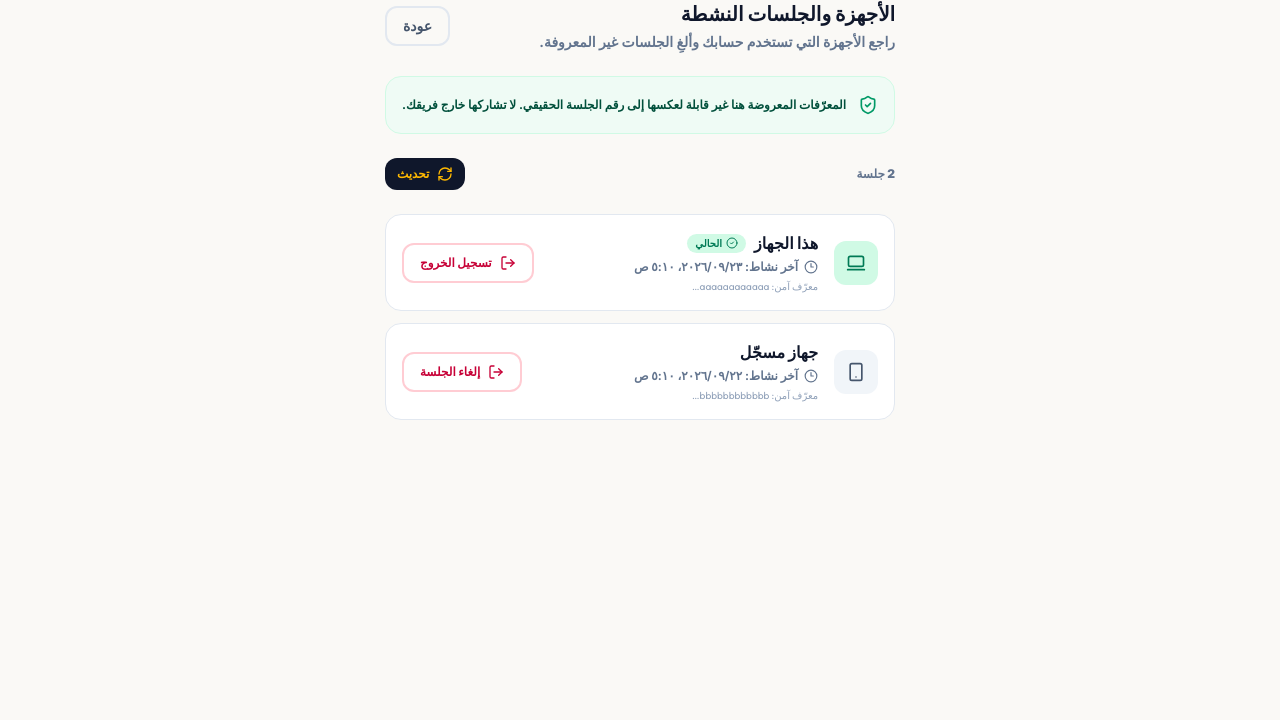
Scenario: AdminActiveSessionsView › removes a revoked remote session and reports success
Step 1. Click the button "إلغاء الجلسة" → [462, 372], box [402,352,522,392]
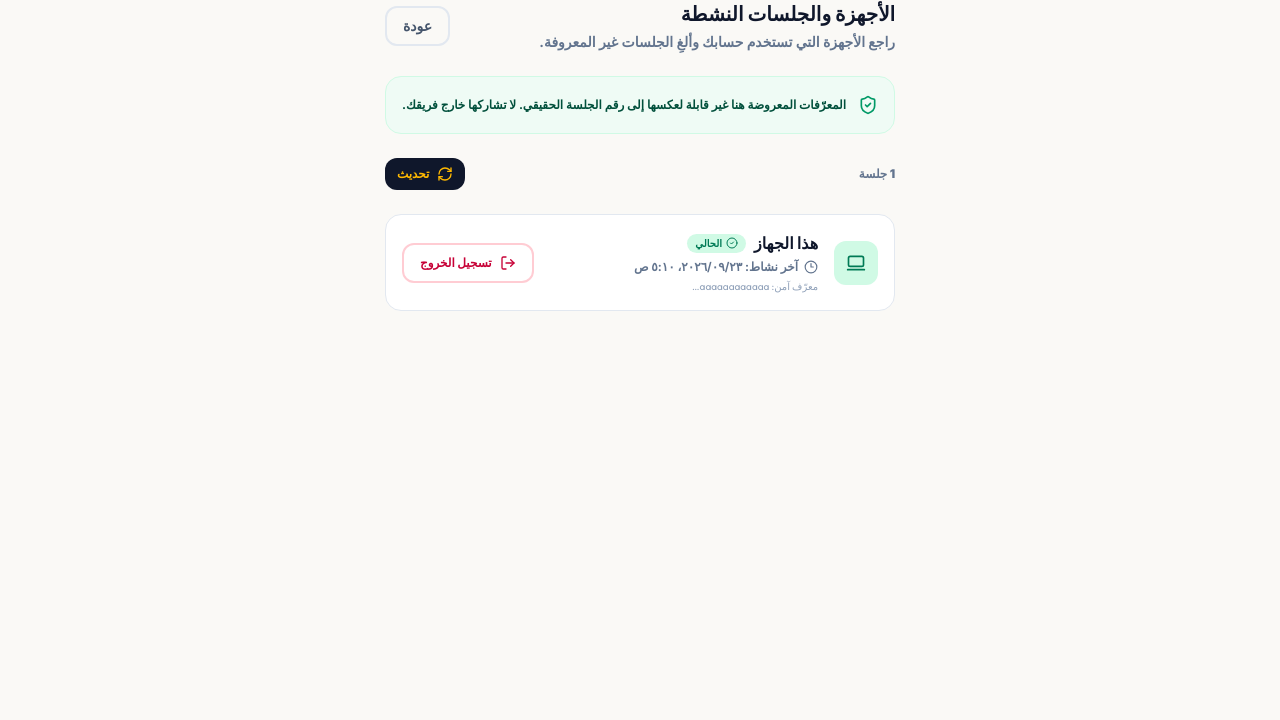
Result: the text "1 جلسة" is shown at [859,166,895,182]
